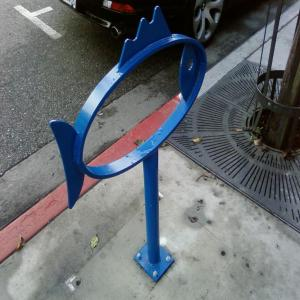Vehicle-registration-plate: (63, 1, 77, 9)
